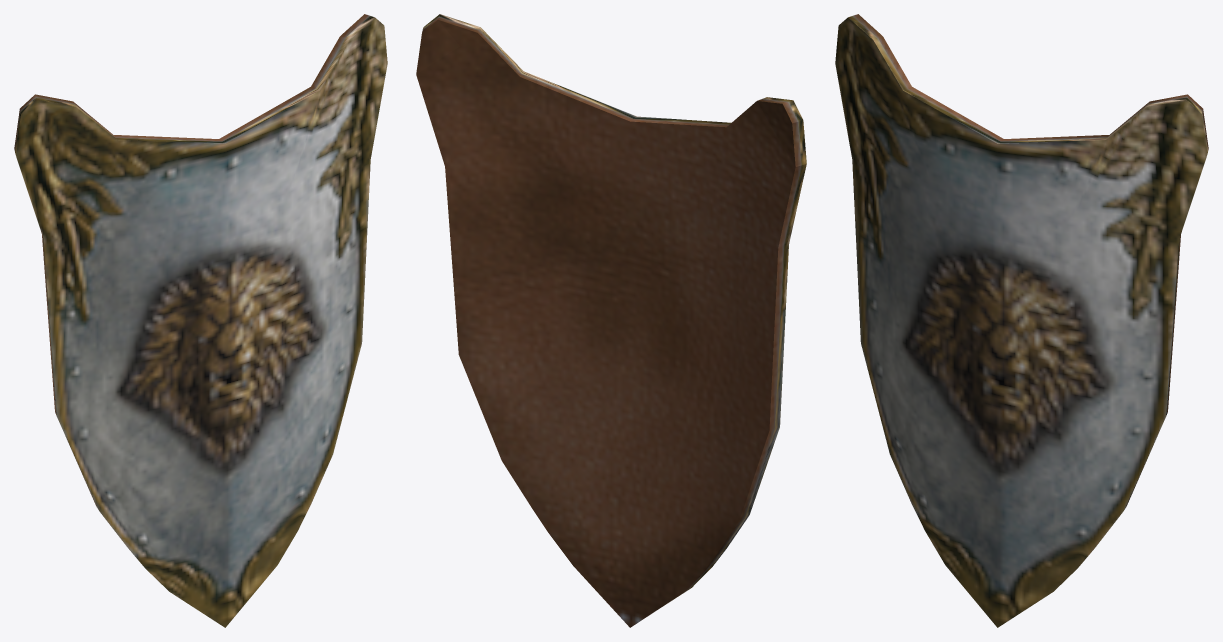
The model's file is Shield06.FBX.
3 views of the same model, side by side, from view 1: azimuth 30°, elevation 25°; view 2: azimuth 150°, elevation 25°; view 3: azimuth 330°, elevation 25° (orthographic). The views are drawn at different scales.
Visible parts, largest first — view 1: Box001; view 2: Box001; view 3: Box001.
Part boxes in pixels (<box>): Box001: <box>14,14,387,627</box>; Box001: <box>416,14,806,627</box>; Box001: <box>835,14,1208,627</box>.
Size of the model in its own units: 72.6 by 10.05 by 103.
